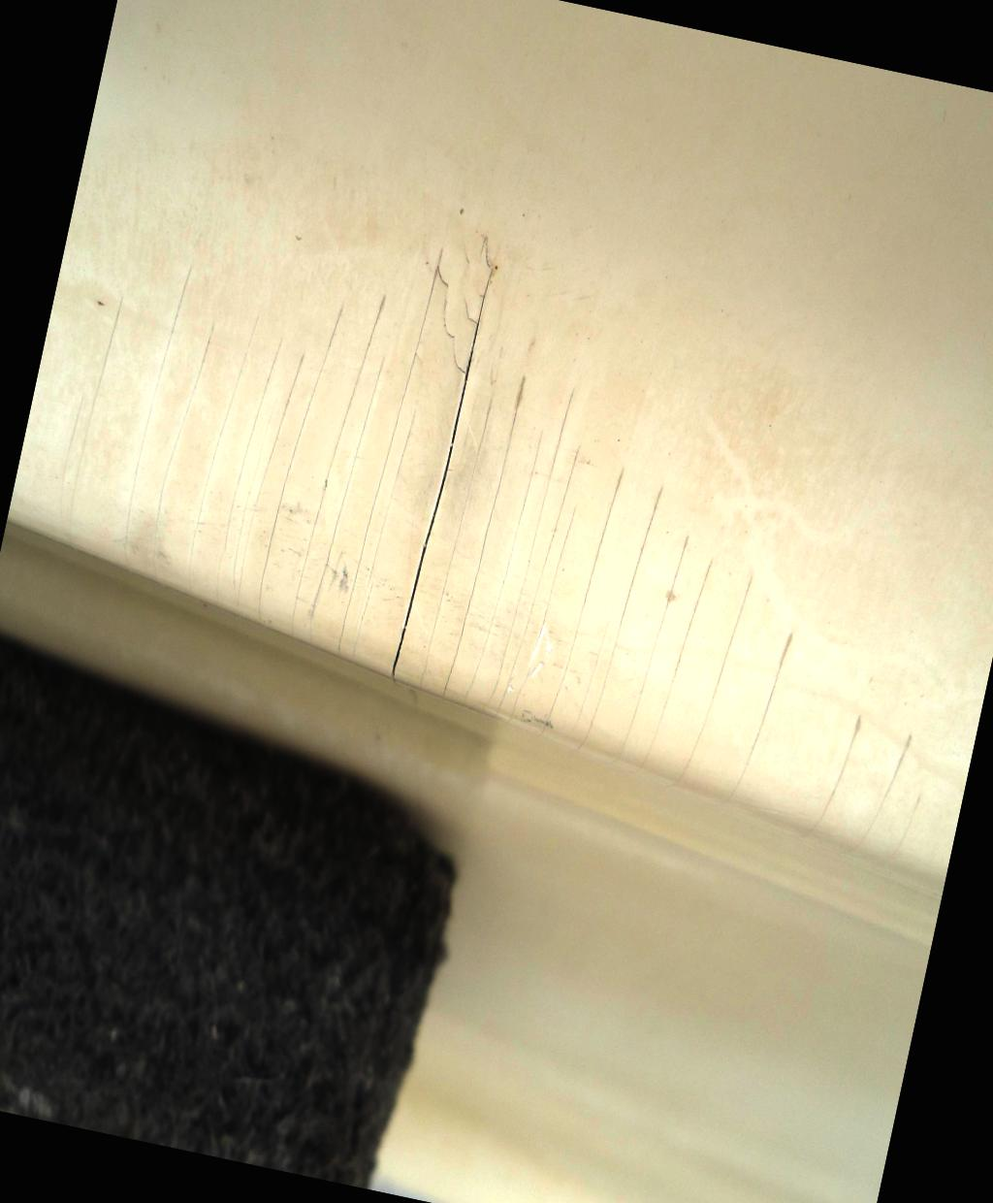crack: (381, 239, 506, 683)
